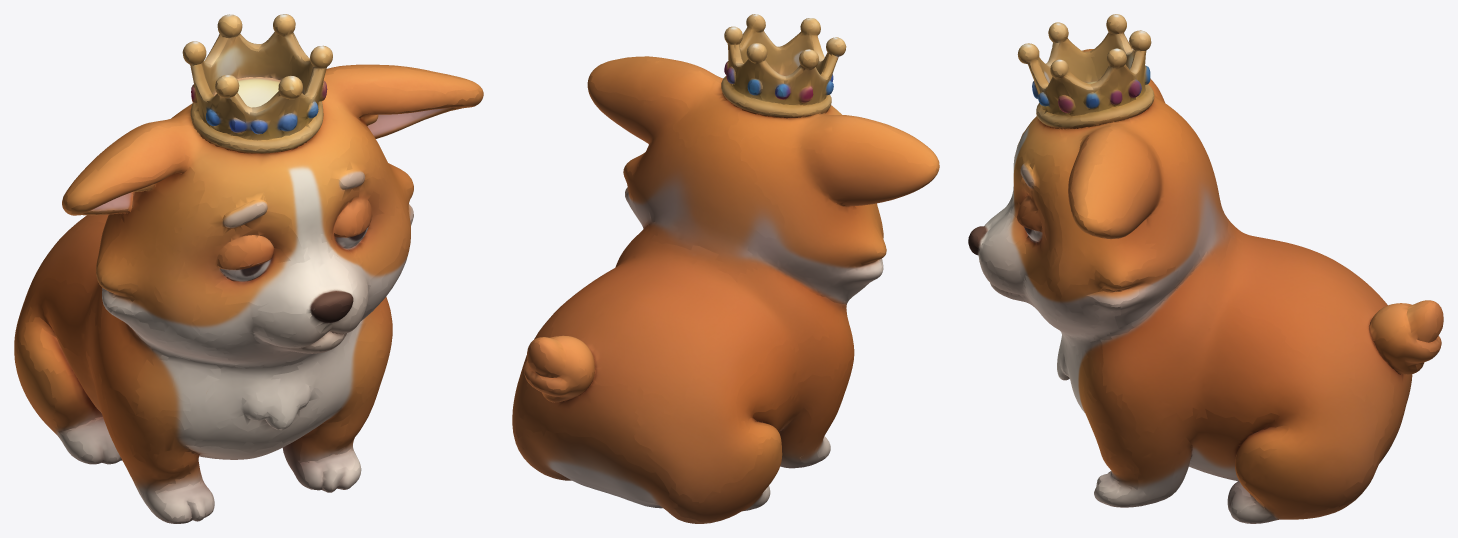
File: corgi-crown.glb
The picture shows the model from 3 angles, left to right: view 1: azimuth 30°, elevation 25°; view 2: azimuth 150°, elevation 25°; view 3: azimuth 270°, elevation 25°; orthographic projection. The views are drawn at different scales.
Parts seen in each view (by area): view 1: world; view 2: world; view 3: world.
Boxes of the visible parts, x1,y1,x2,y2 form: world: (14, 14, 483, 523); world: (512, 14, 939, 523); world: (968, 14, 1443, 523).
Size of the model in its own units: 0.12 by 0.1339 by 0.1336.
1 material, 1 textured.
